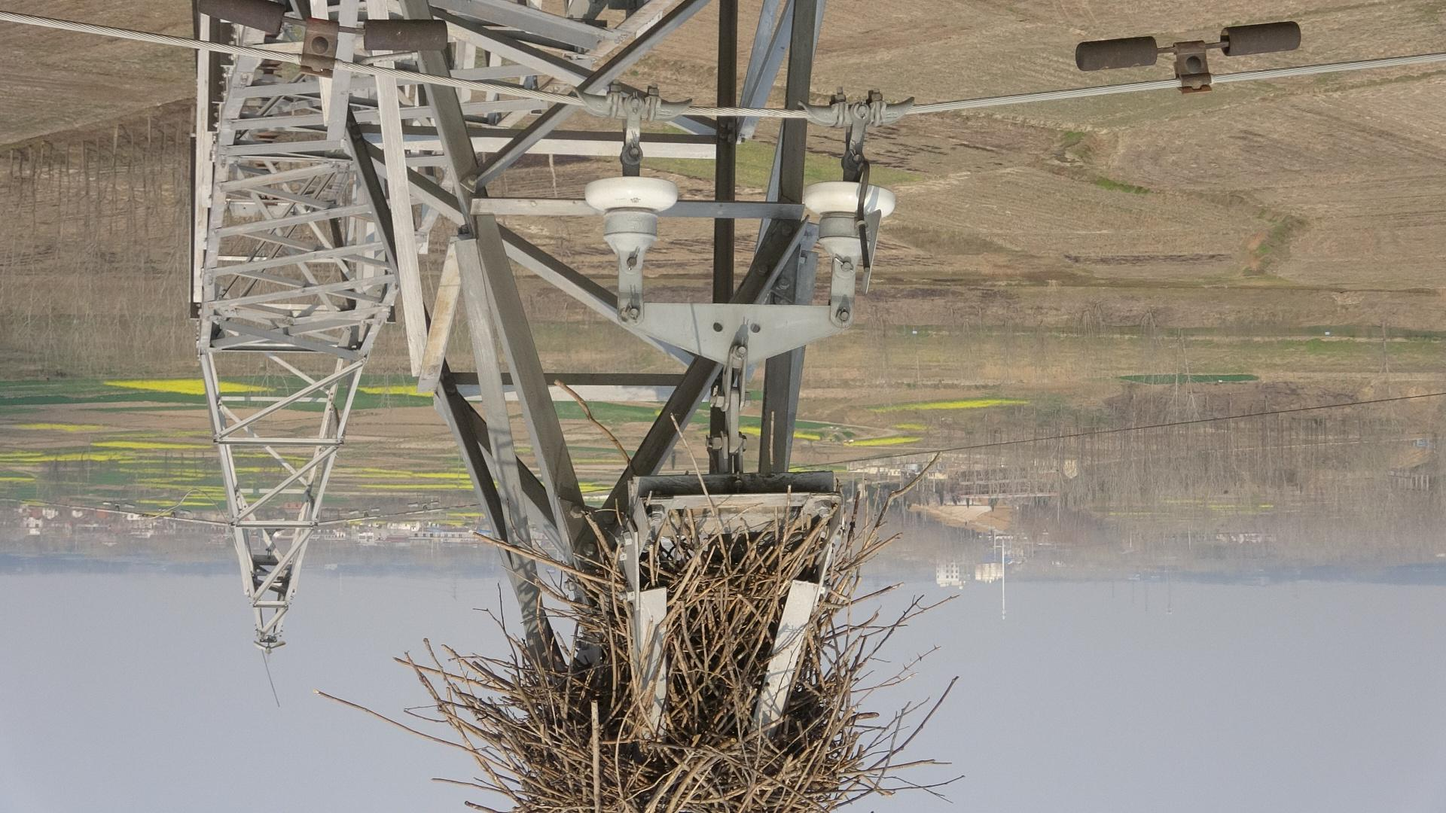damper: (182, 1, 454, 86), (1069, 15, 1308, 97)
nest: (423, 508, 920, 813)
